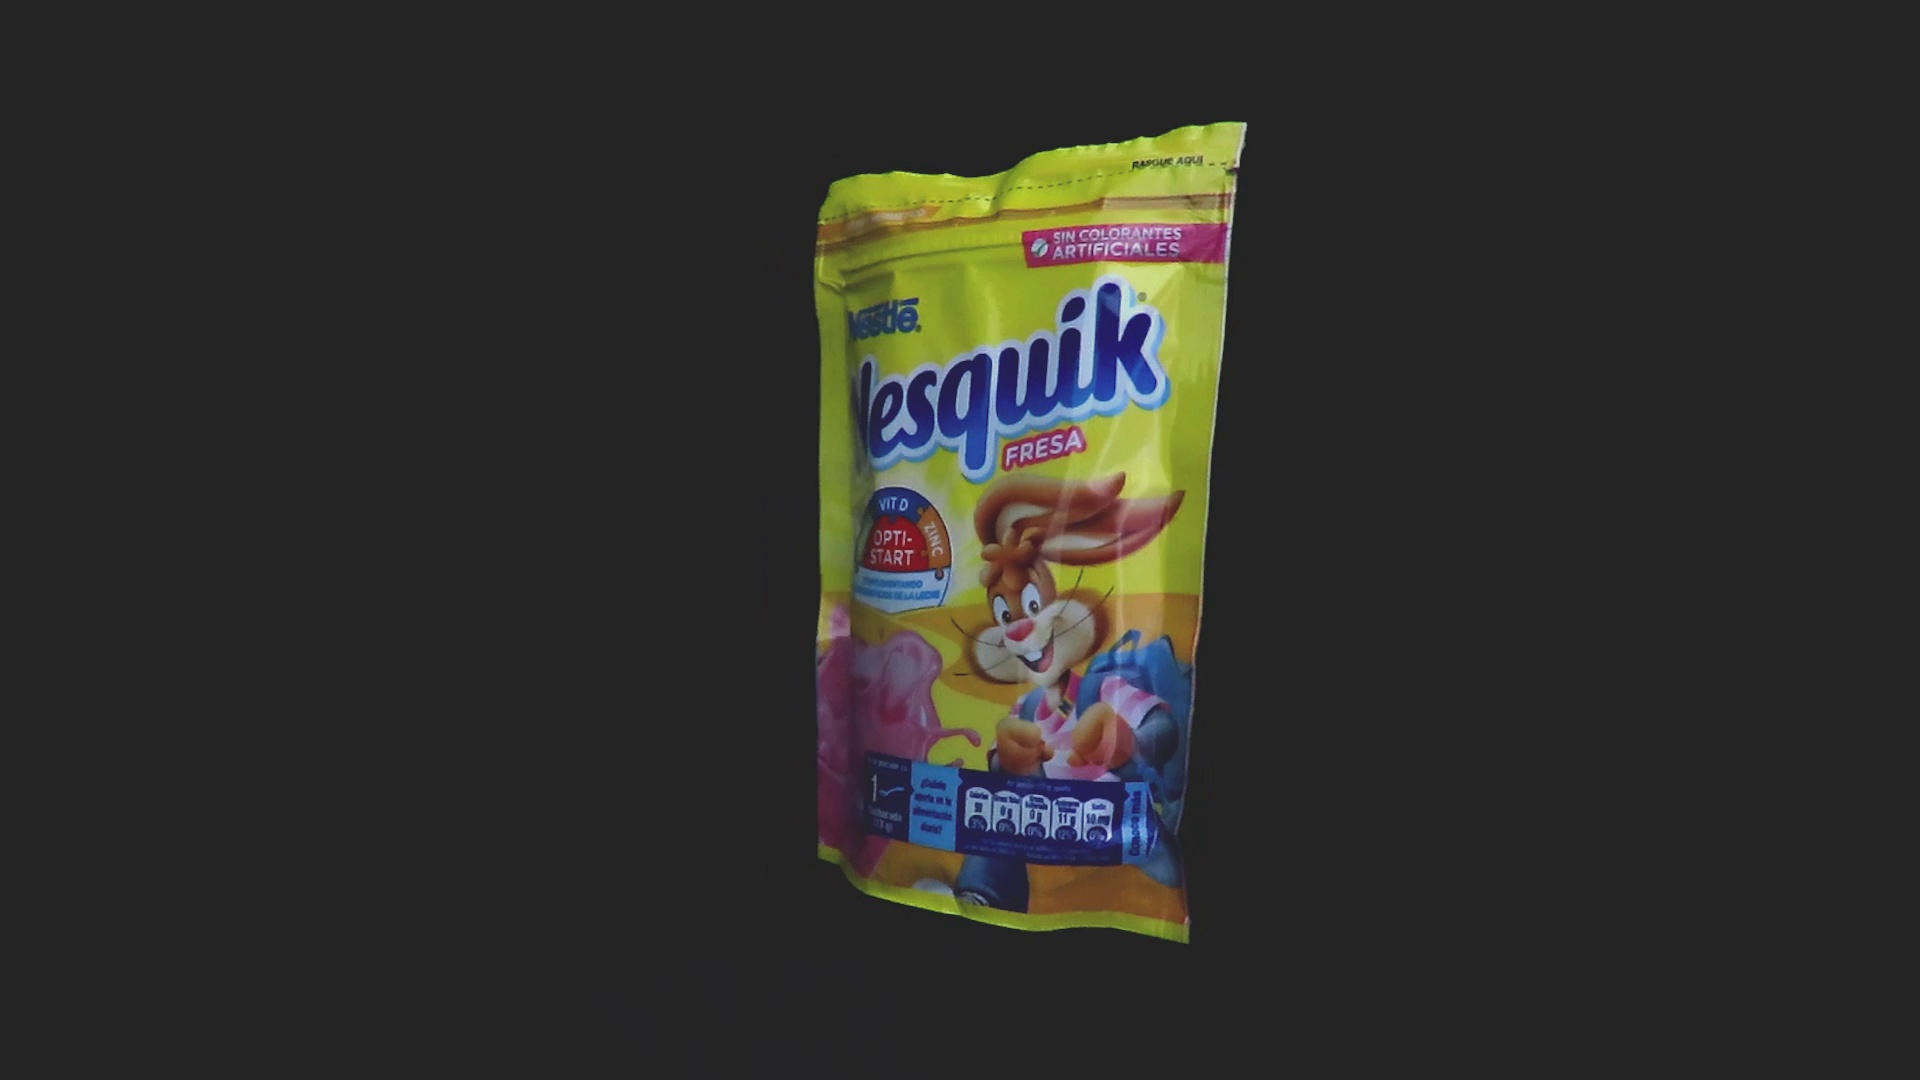COL0170305DYP20000: (808, 116, 1253, 949)
